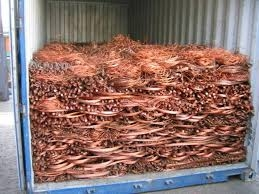metal: (45, 153, 87, 178), (38, 99, 81, 121), (124, 130, 163, 152), (157, 106, 204, 124), (169, 131, 210, 151), (86, 143, 124, 162), (79, 105, 125, 119), (215, 74, 249, 90), (77, 96, 104, 106)
